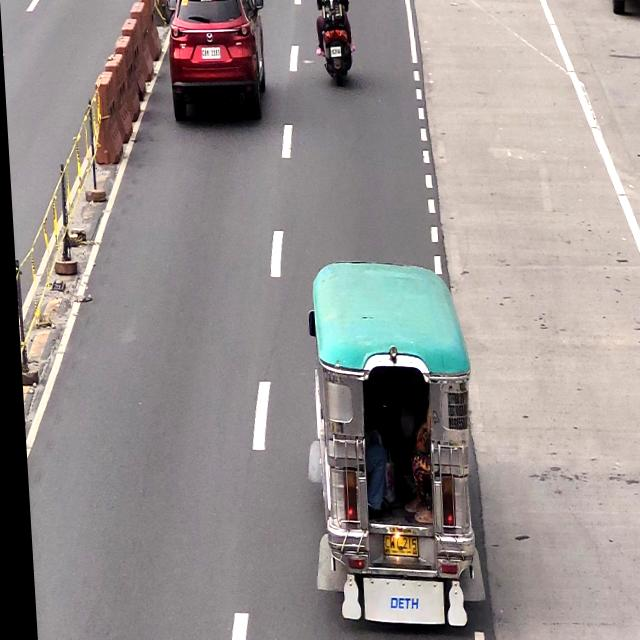Car: (168, 0, 270, 127)
Jeep: (299, 263, 479, 639)
License-Plate: (376, 533, 414, 565), (200, 48, 221, 62), (329, 46, 342, 60)
Motorcycle: (314, 0, 357, 77)
